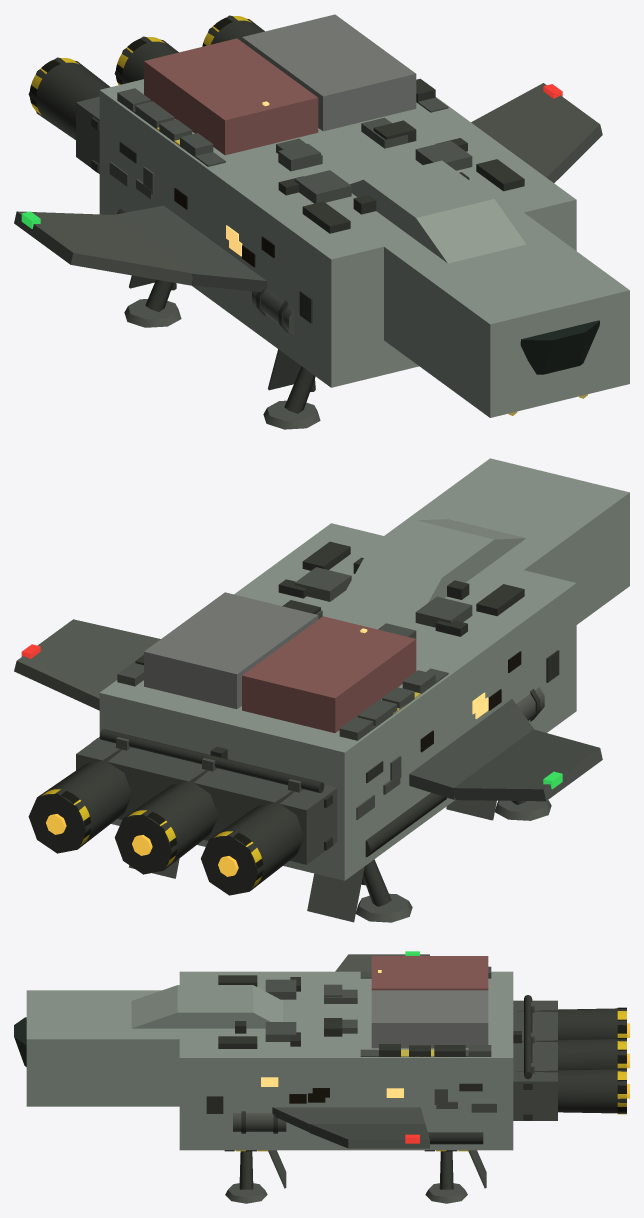
File: freighter-s.glb
3 views of the same model, one above another, from view 1: azimuth 30°, elevation 25°; view 2: azimuth 150°, elevation 25°; view 3: azimuth 270°, elevation 25° (orthographic). The views are drawn at different scales.
Parts seen in each view (by area): view 1: hullMain, hullNose, cargoContainer0_0L, cargoContainer0_0R, canopyFairing, wingOuterRight, wingOuterLeft, engineHousing (×3), wingInnerLeft, cockpitGlass, gearFoot (×2), engineBayExtension (+12 smaller); view 2: hullMain, hullNose, engineHousing (×3), cargoContainer0_0L, cargoContainer0_0R, engineBayExtension, canopyFairing, wingOuterRight, wingOuterLeft, wingInnerLeft, gearBayDoor (×2), propellantHeader (+7 smaller); view 3: hullMain, hullNose, engineHousing (×3), cargoContainer0_0R, canopyFairing, engineBayExtension, cargoContainer0_0L, wingInnerRight, wingOuterRight, gearFoot (×2), gearStrut (×2), freighterShiphullMainPropellantTankR (+10 smaller).
Part boxes in pixels (x1,y1,x2,y2): hullMain: [99, 79, 576, 387]; hullNose: [375, 212, 629, 417]; cargoContainer0_0L: [144, 38, 318, 155]; cargoContainer0_0R: [242, 14, 416, 131]; canopyFairing: [350, 160, 526, 263]; wingOuterRight: [471, 83, 602, 182]; wingOuterLeft: [14, 211, 192, 285]; engineHousing (×3): [28, 15, 264, 139]; wingInnerLeft: [113, 205, 266, 291]; cockpitGlass: [520, 320, 599, 374]; gearFoot (×2): [124, 299, 320, 429]; engineBayExtension: [76, 96, 99, 173]; hullMain: [99, 523, 576, 880]; hullNose: [384, 458, 629, 624]; engineHousing (×3): [28, 748, 304, 895]; cargoContainer0_0L: [242, 616, 416, 732]; cargoContainer0_0R: [144, 592, 318, 709]; engineBayExtension: [76, 737, 337, 864]; canopyFairing: [343, 519, 526, 613]; wingOuterRight: [14, 619, 160, 710]; wingOuterLeft: [453, 729, 602, 801]; wingInnerLeft: [409, 699, 534, 799]; gearBayDoor (×2): [307, 800, 496, 922]; propellantHeader: [99, 729, 324, 792]; hullMain: [179, 971, 513, 1150]; hullNose: [26, 990, 193, 1106]; engineHousing (×3): [515, 1008, 626, 1113]; cargoContainer0_0R: [371, 990, 488, 1048]; canopyFairing: [131, 985, 282, 1028]; engineBayExtension: [513, 1000, 557, 1120]; cargoContainer0_0L: [371, 956, 488, 990]; wingInnerRight: [272, 1107, 424, 1132]; wingOuterRight: [309, 1124, 429, 1148]; gearFoot (×2): [225, 1183, 467, 1203]; gearStrut (×2): [239, 1151, 453, 1189]; freighterShiphullMainPropellantTankR: [233, 1113, 286, 1131].
Size of the model in its own units: 4.77 by 1.98 by 6.64.
